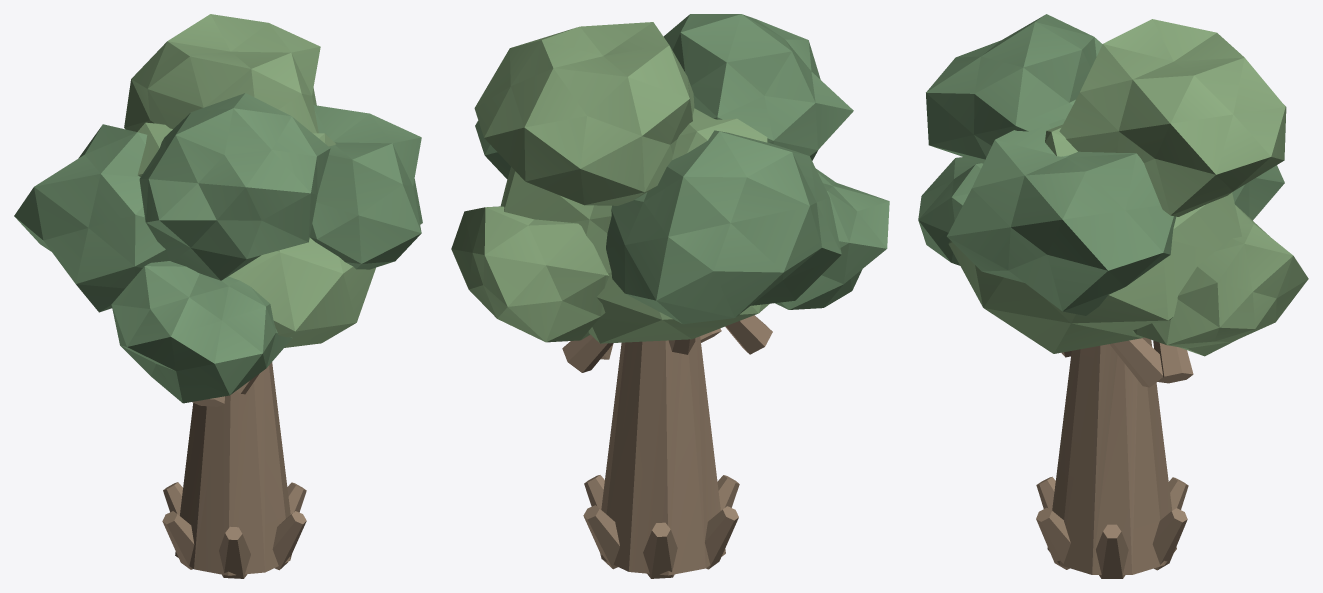
The picture shows the model from 3 angles, left to right: view 1: azimuth 30°, elevation 25°; view 2: azimuth 150°, elevation 25°; view 3: azimuth 270°, elevation 25°; orthographic projection. The views are drawn at different scales.
Parts seen in each view (by area): view 1: landmark.world_tree; view 2: landmark.world_tree; view 3: landmark.world_tree.
Part boxes in pixels (x1=…): landmark.world_tree: x1=14, y1=14, x2=422, y2=578; landmark.world_tree: x1=451, y1=14, x2=889, y2=578; landmark.world_tree: x1=918, y1=14, x2=1308, y2=578.
Size of the model in its own units: 27.44 by 37.32 by 25.32.
